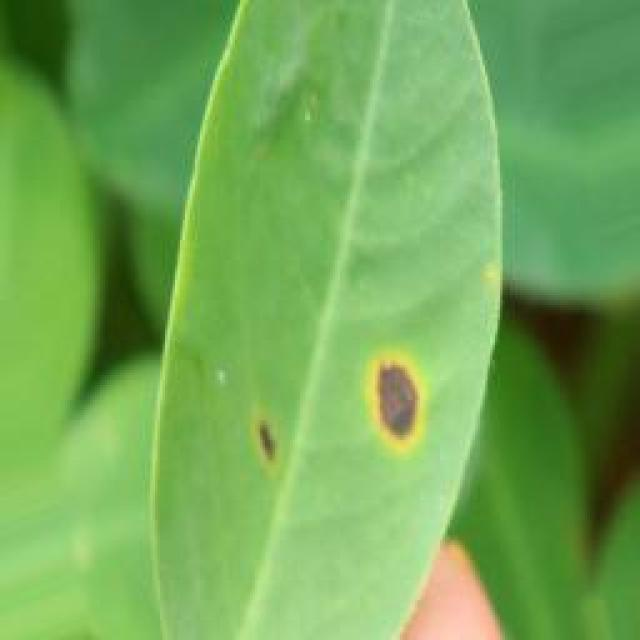Sigatoka: (352, 334, 438, 472), (242, 394, 301, 486)
